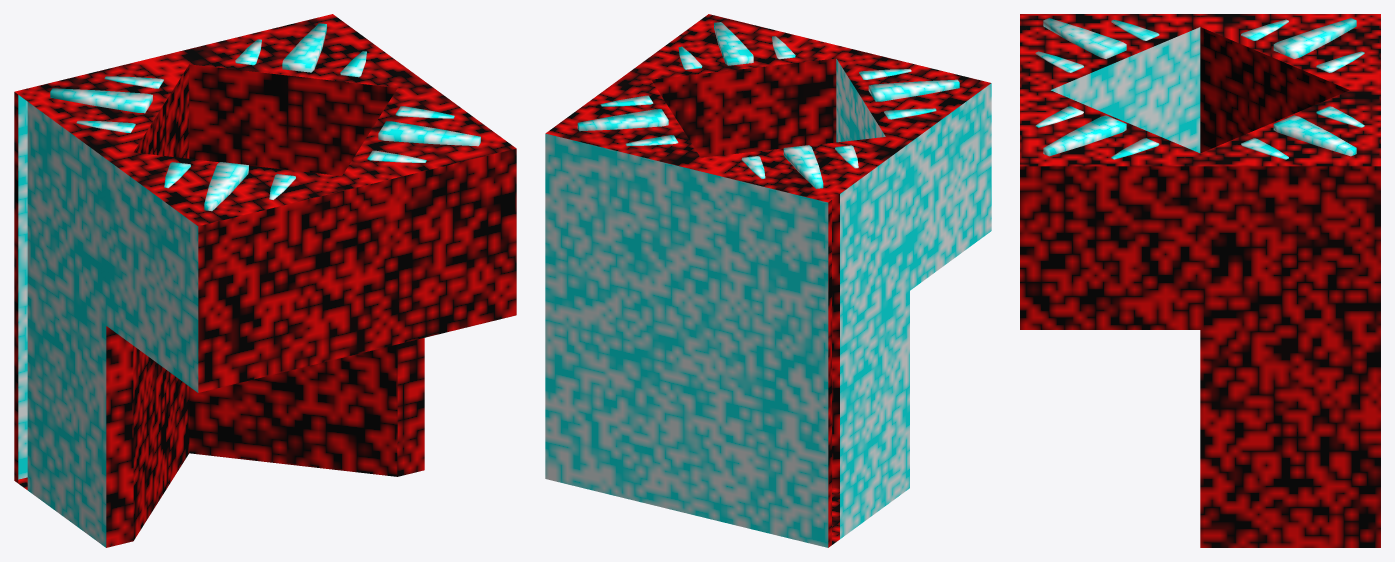
The model's file is SM_MonadBless_Separate_04_GDH.fbx.
3 renders of one model, left to right at view 1: azimuth 30°, elevation 25°; view 2: azimuth 150°, elevation 25°; view 3: azimuth 270°, elevation 25°, orthographic. The views are drawn at different scales.
Parts seen in each view (by area): view 1: SM_MonadBless_Separate_04_GDH; view 2: SM_MonadBless_Separate_04_GDH; view 3: SM_MonadBless_Separate_04_GDH.
Part boxes in pixels (x1=…): SM_MonadBless_Separate_04_GDH: x1=14, y1=14, x2=516, y2=547; SM_MonadBless_Separate_04_GDH: x1=545, y1=14, x2=991, y2=547; SM_MonadBless_Separate_04_GDH: x1=1020, y1=14, x2=1380, y2=547.
Bounding box in the file's own units: 12.12 × 14.37 × 12.12.
